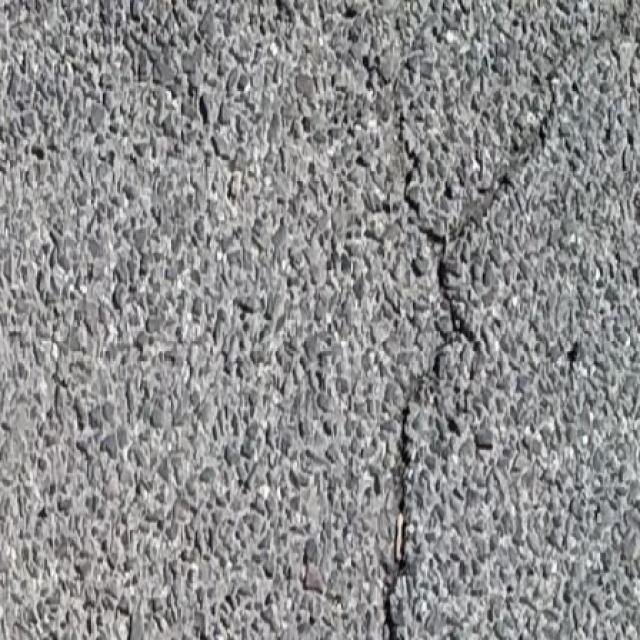Vertical Crack: (373, 0, 639, 640)
